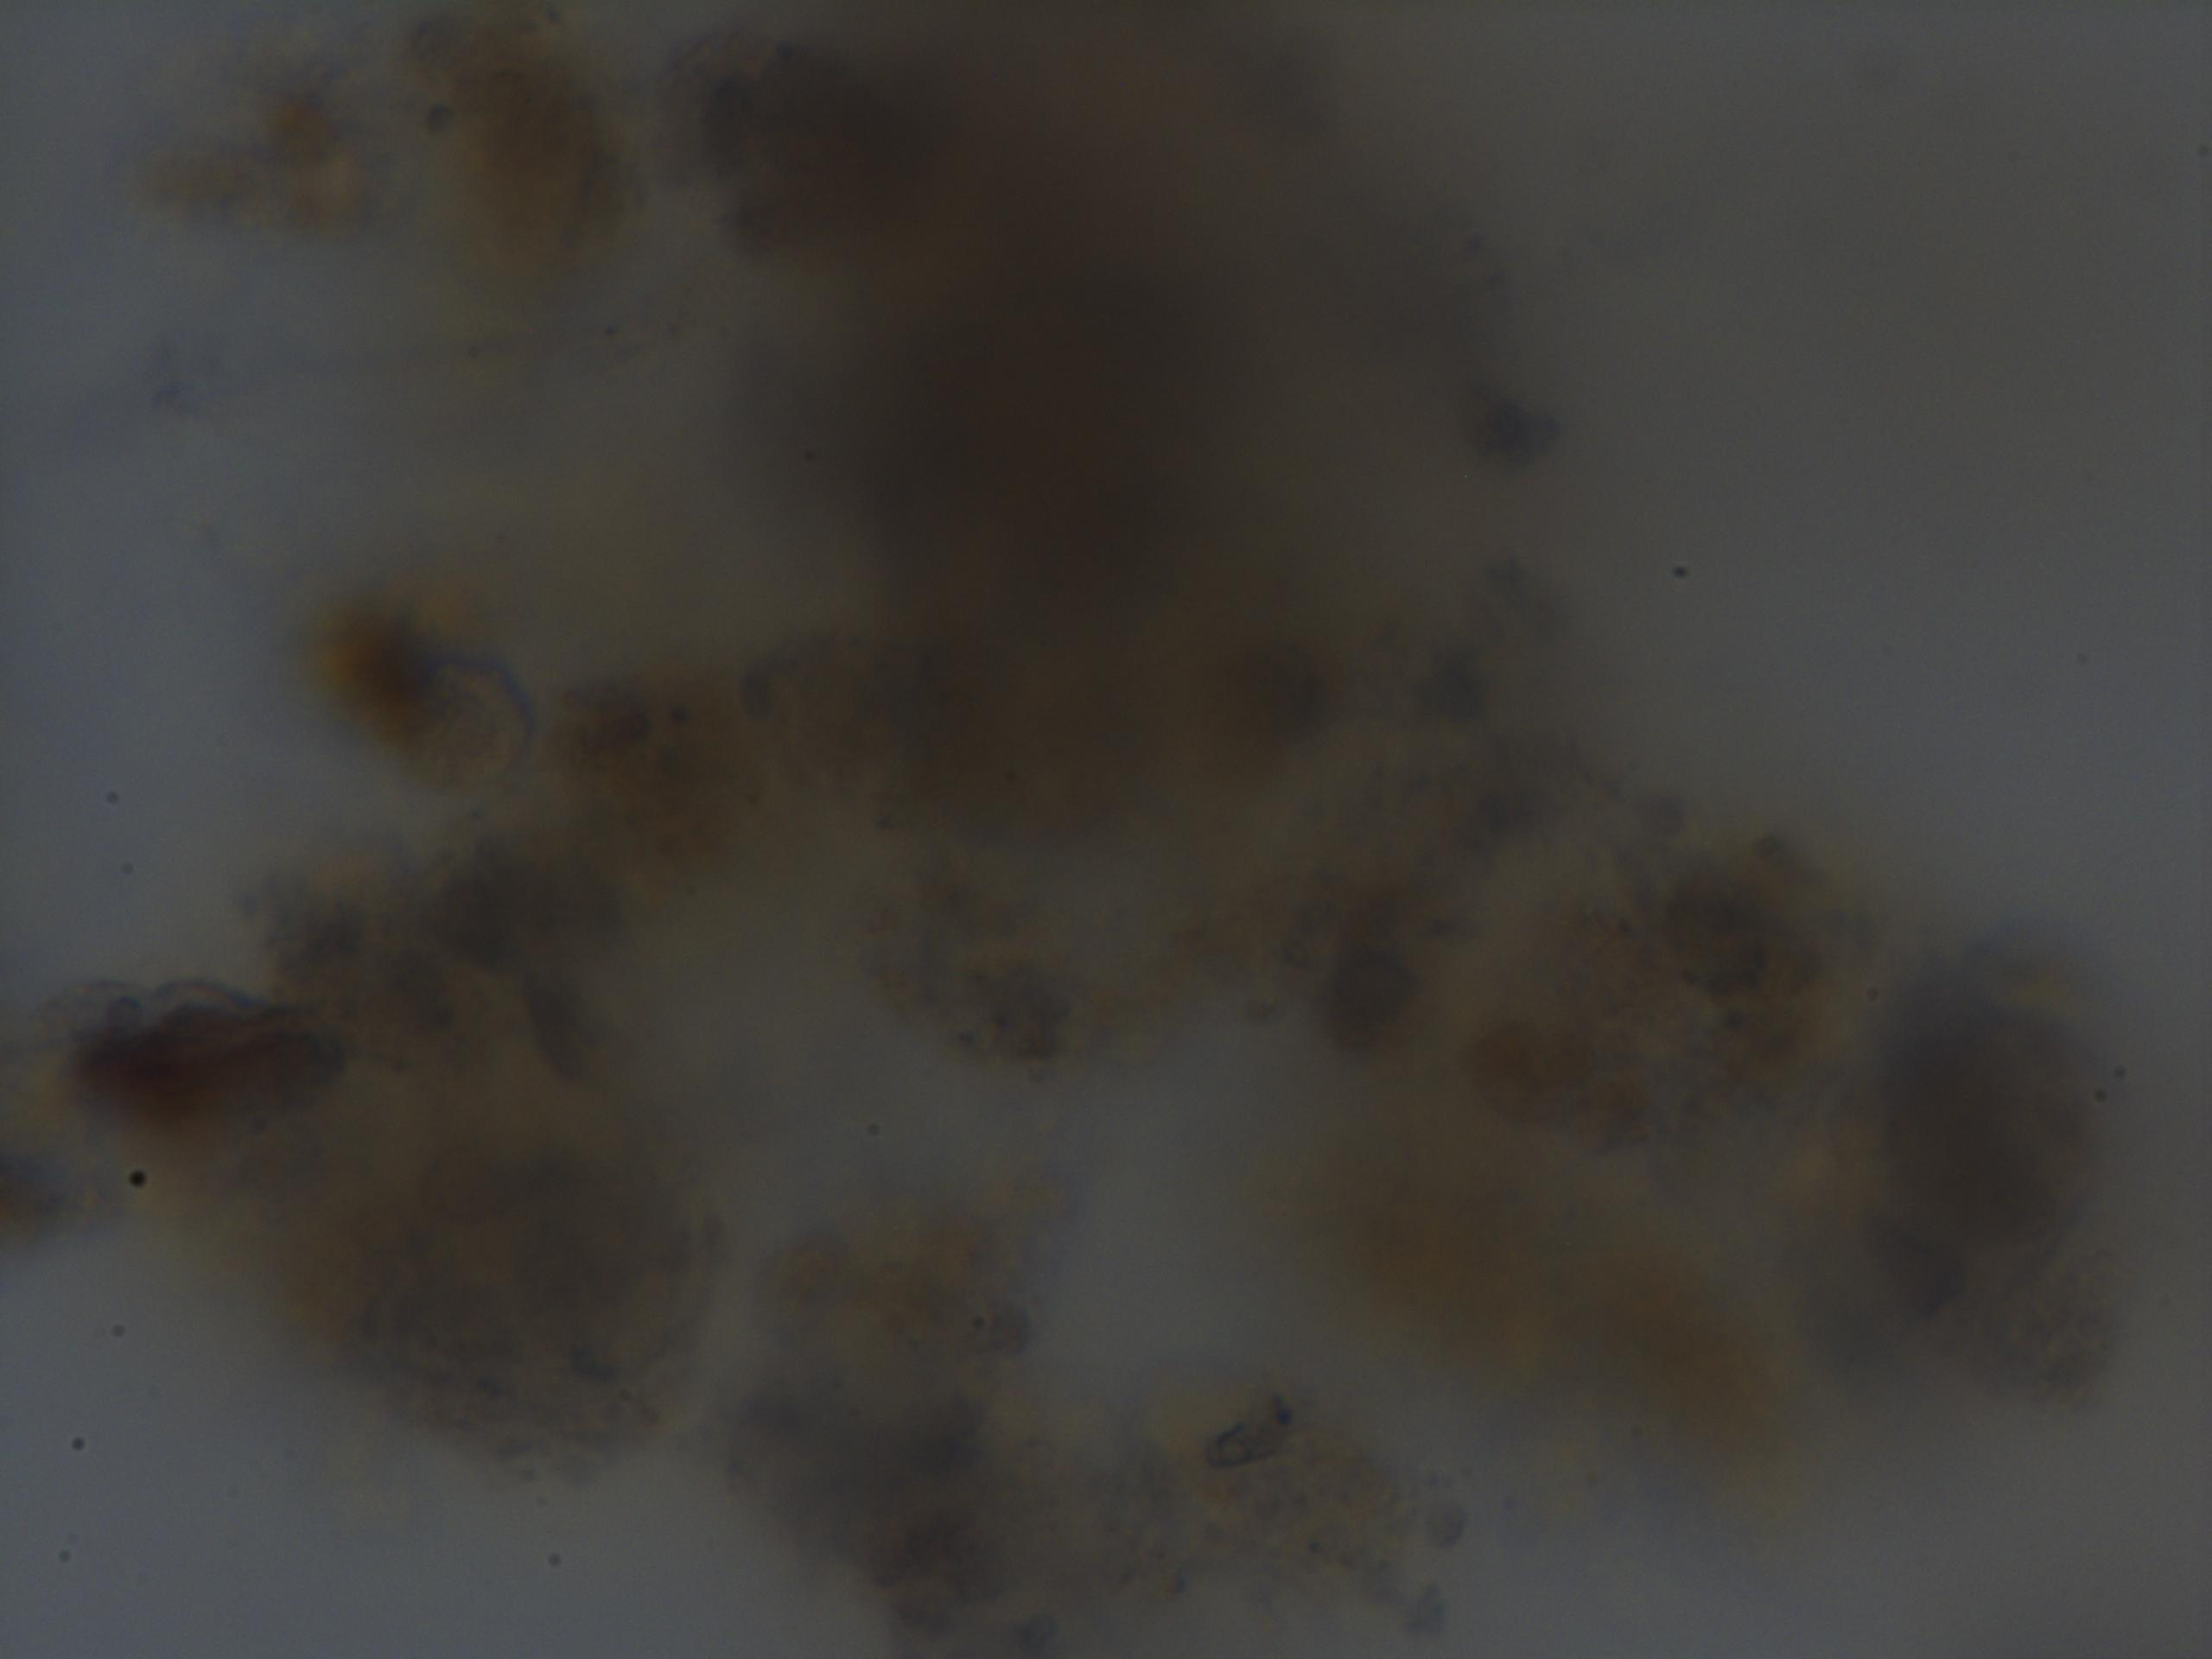open_floc: (7, 577, 2184, 1659)
